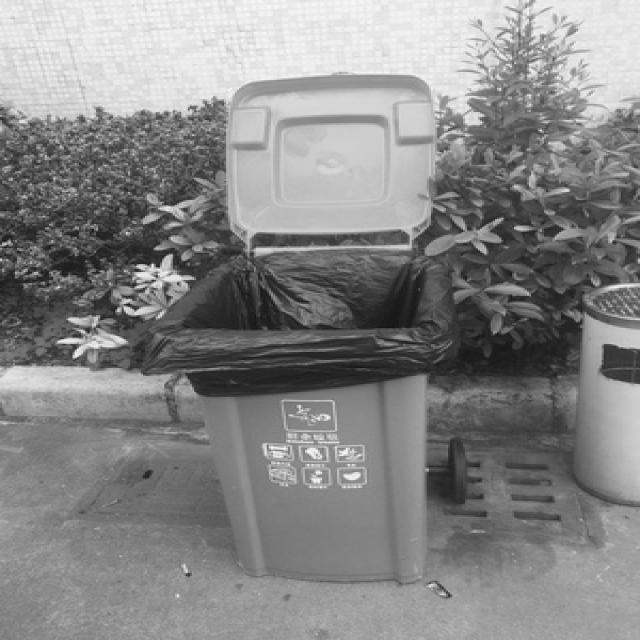ash bin: (148, 70, 454, 582)
